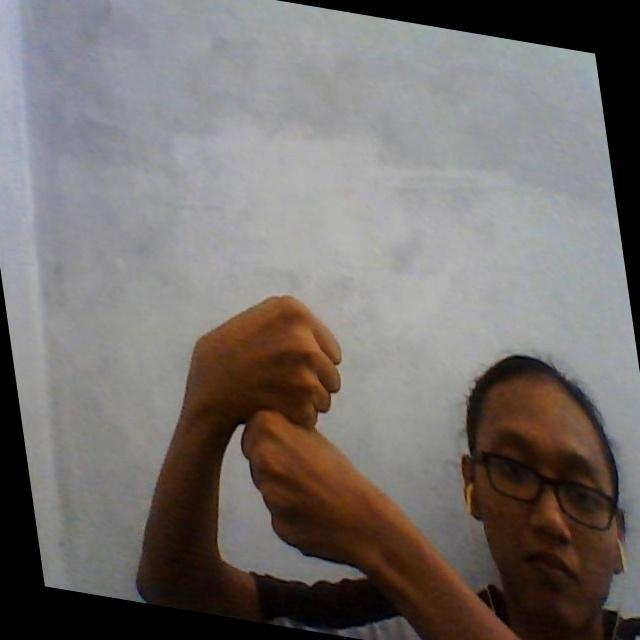G: (209, 294, 374, 551)
